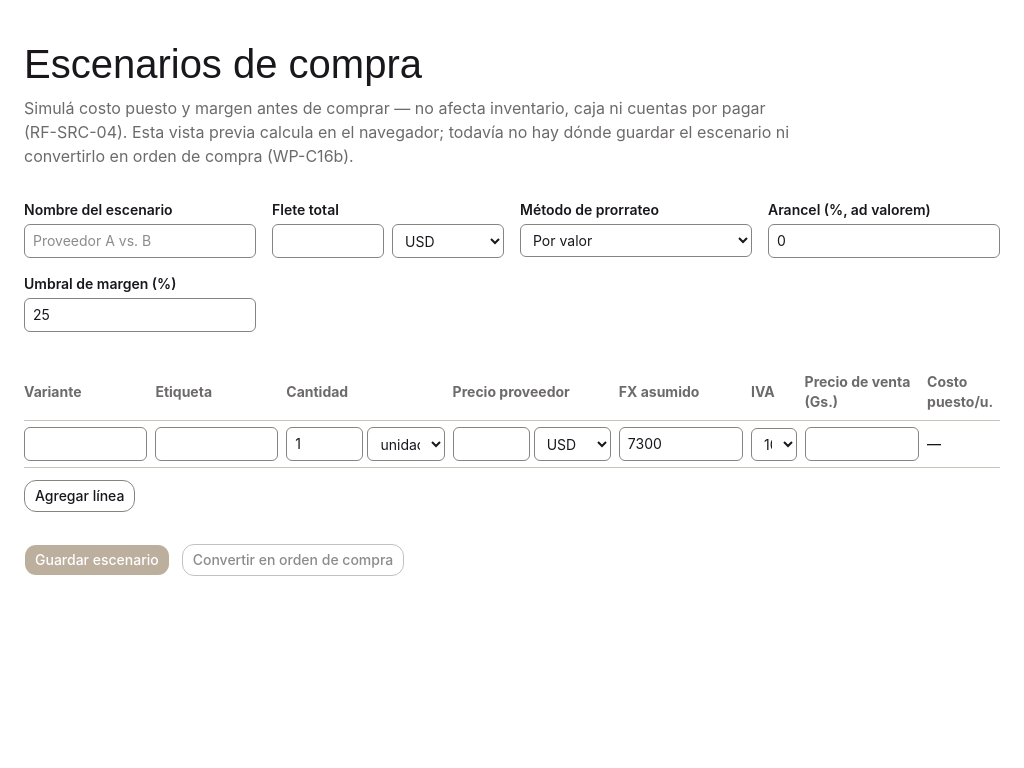
it: RN-SRC-01/02 · validaciones de negocio que el contrato no expresa, hechas antes de llegar al dominio › un precio de venta en 0 (el valor por defecto de una línea nueva) da un mensaje de validación, no la excepción técnica del dominio
Click the field named "Id de variante".
click(86, 444)  # box x1=24 y1=427 x2=147 y2=461
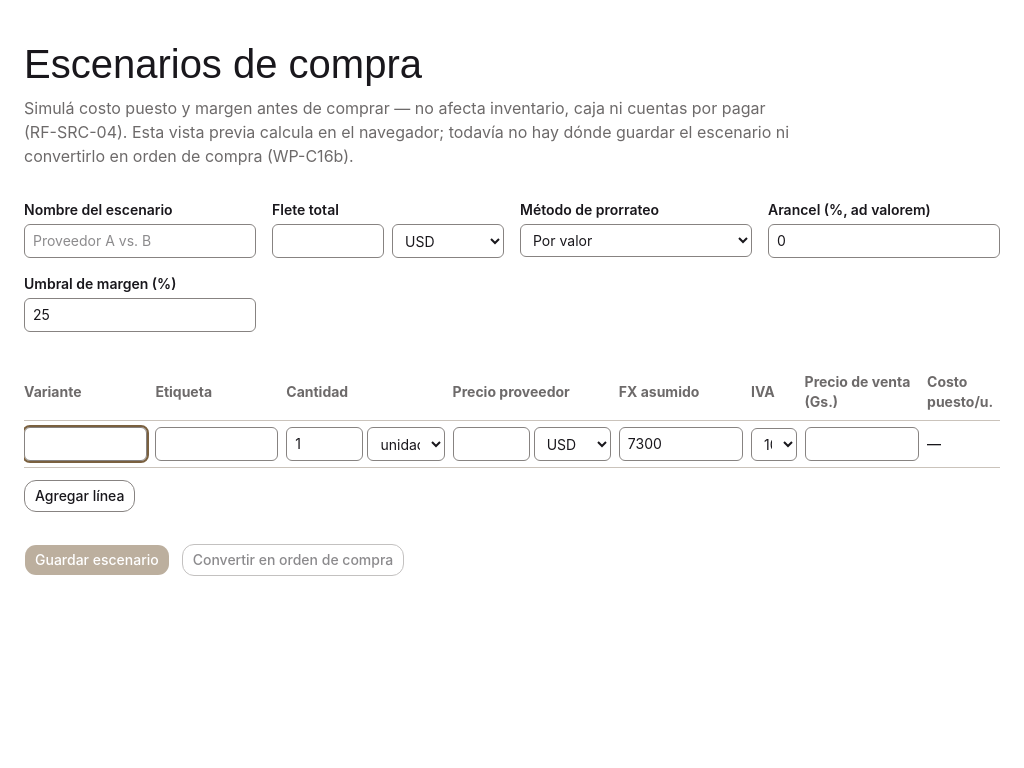
Type keys "11111111-1111-4111-a111-111111111111"
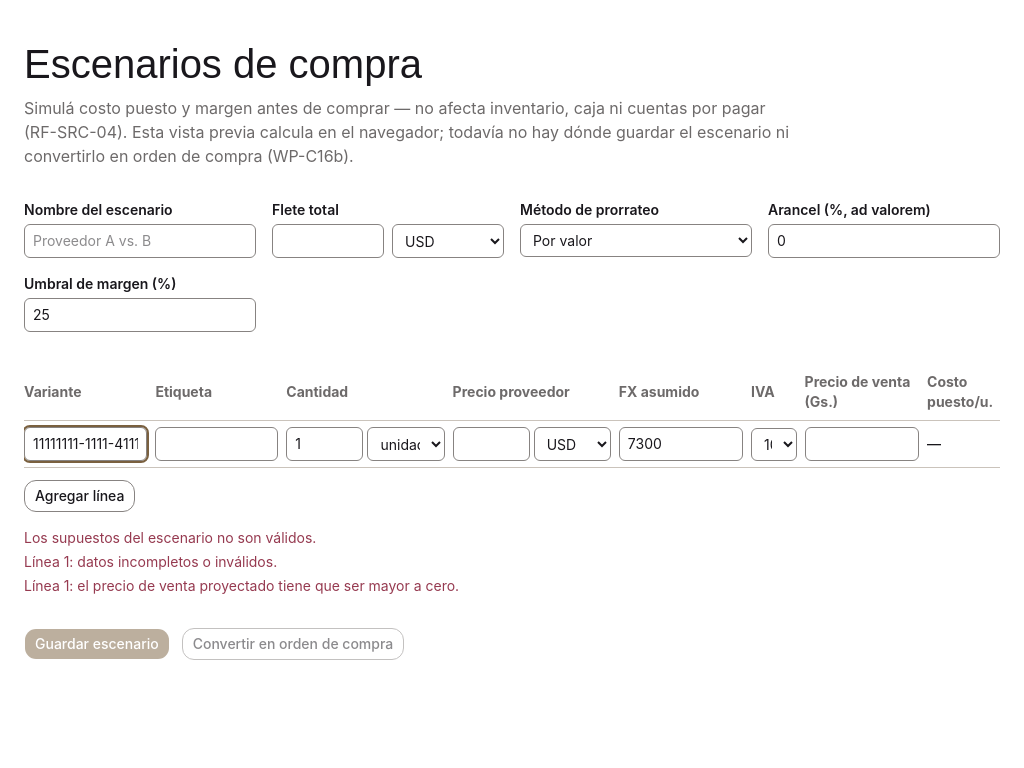
Now the list item "Línea 1: el precio de venta proyectado tiene que ser mayor a cero." is shown, box x1=24 y1=577 x2=459 y2=594
